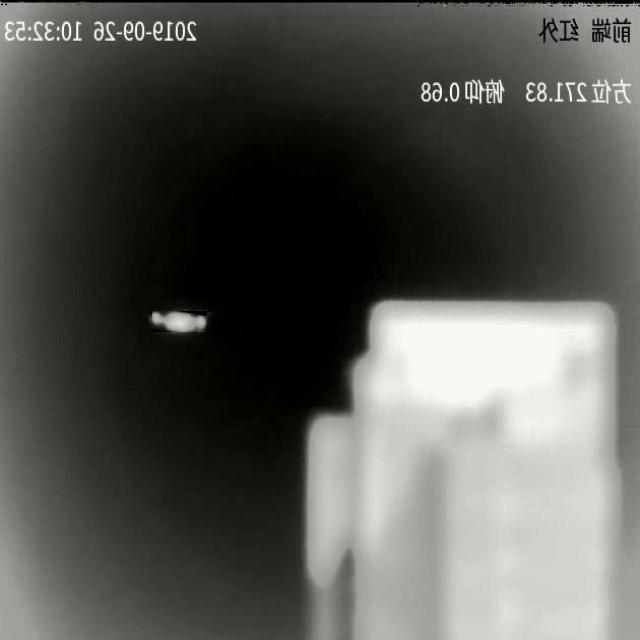drone: (152, 312, 207, 332)
